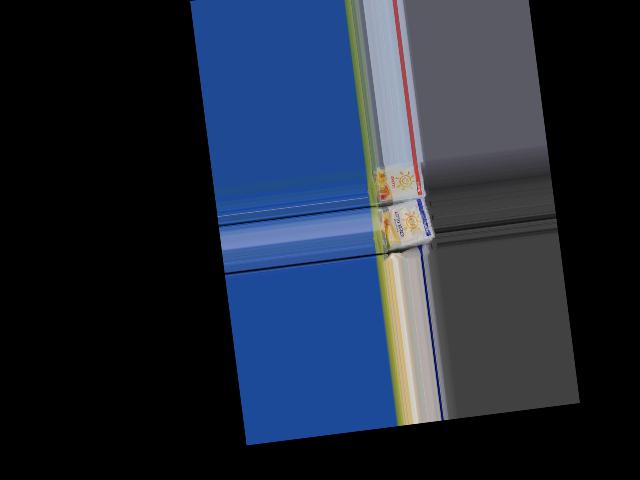cheese: (364, 159, 428, 204)
